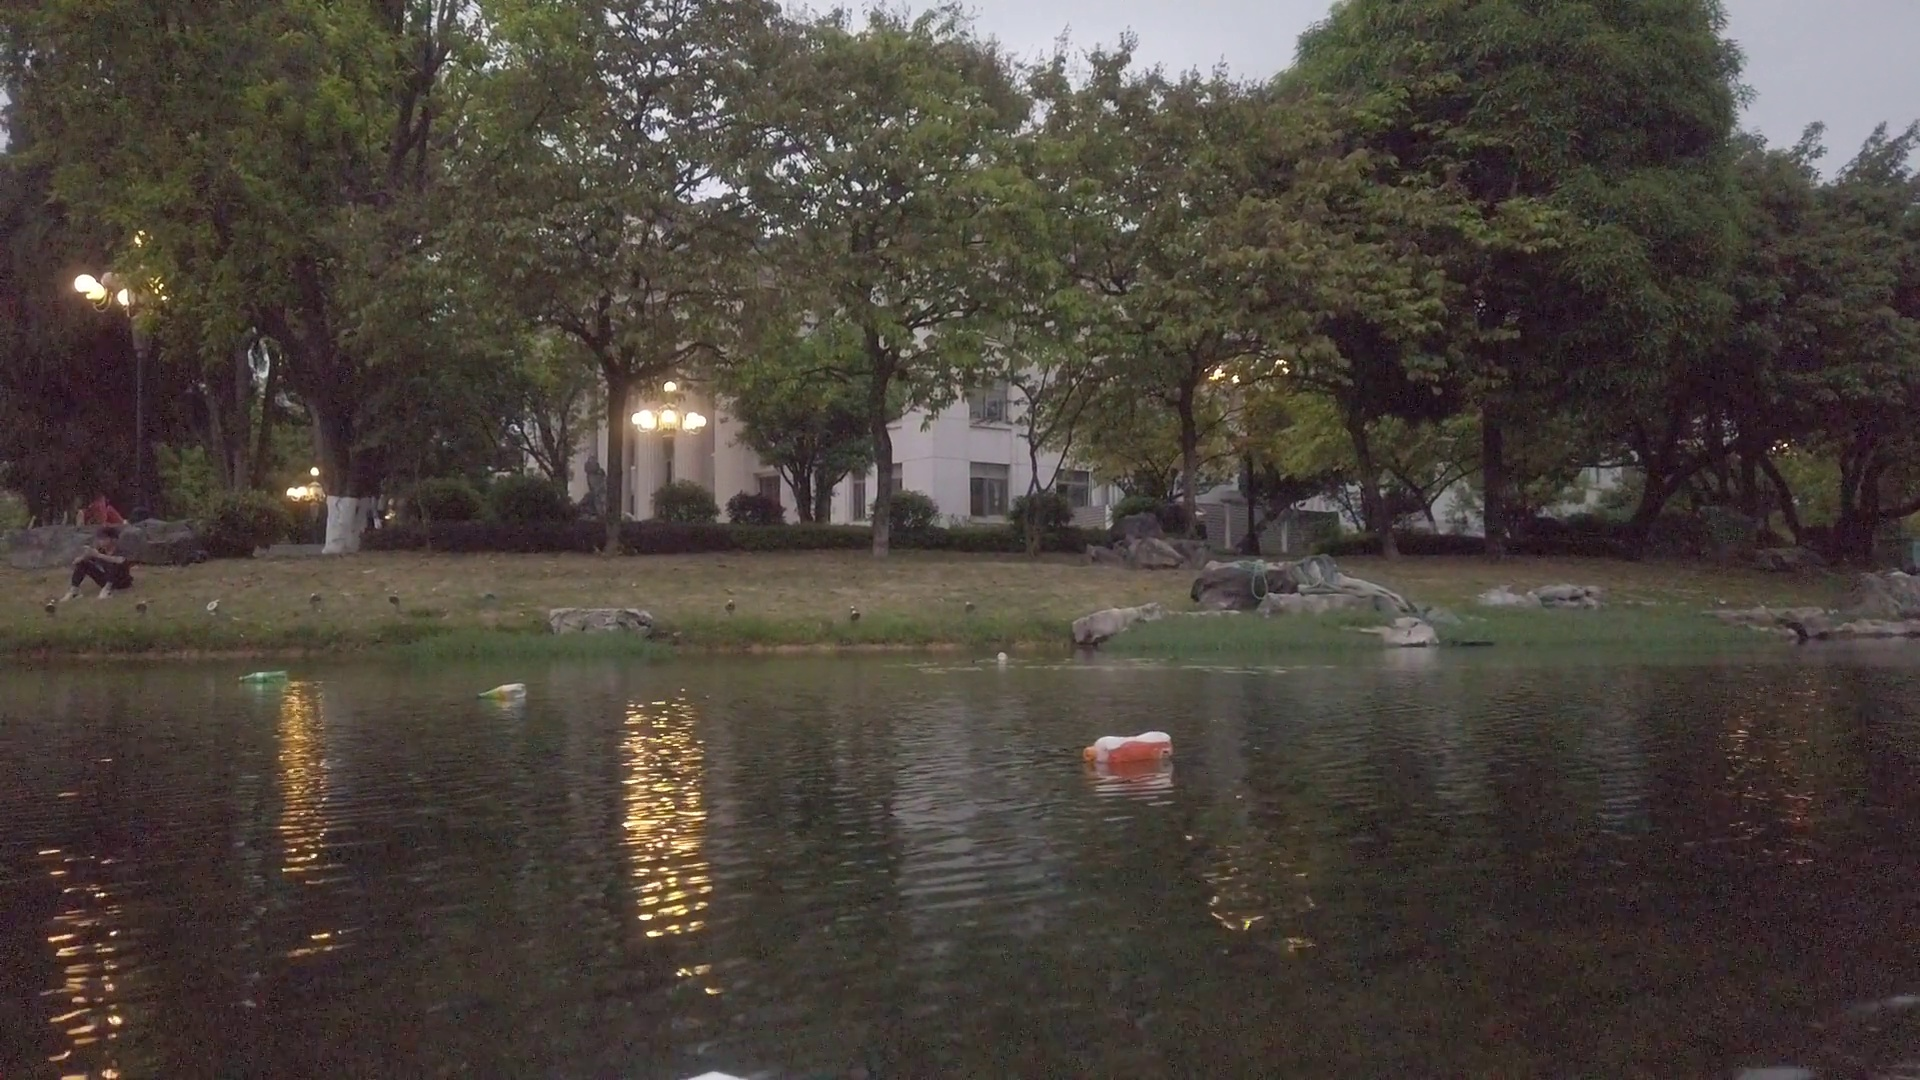bottle: (1083, 727, 1176, 765), (480, 682, 527, 702), (237, 669, 289, 686), (1000, 647, 1010, 665)
